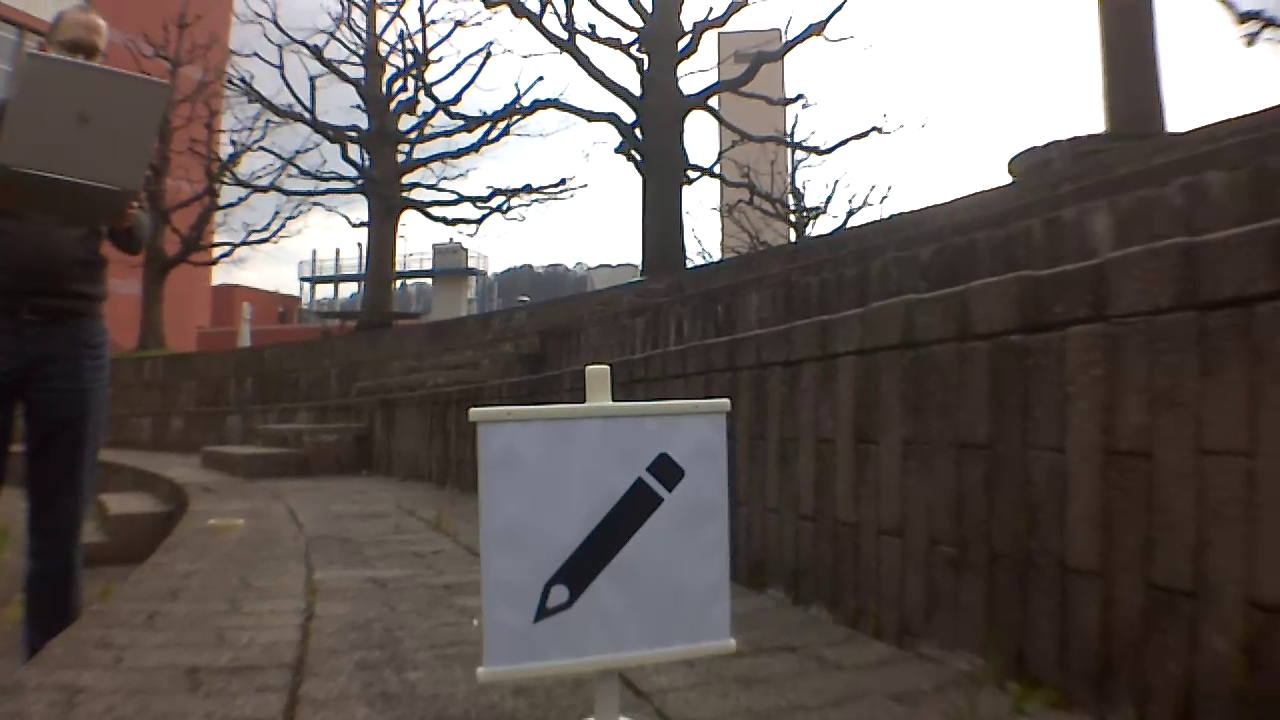pencil: (524, 446, 693, 626)
